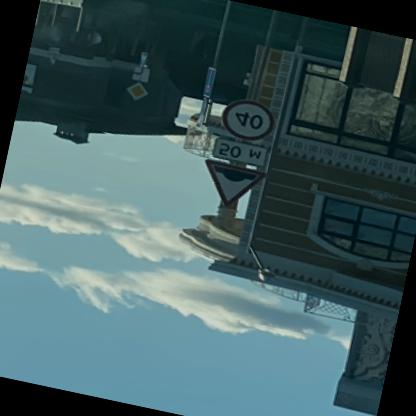speedlimit: (215, 96, 275, 146)
